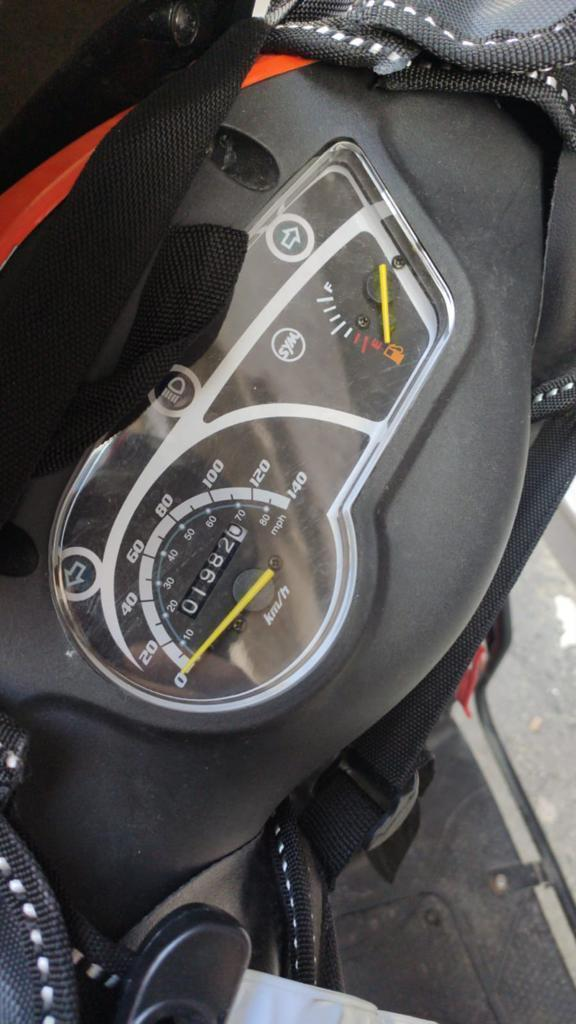0: (180, 598, 198, 614), (226, 522, 242, 536), (186, 528, 194, 535), (208, 517, 216, 522), (172, 549, 177, 556), (172, 599, 177, 606)
1: (190, 585, 207, 596)
2: (217, 537, 235, 553)
5: (183, 533, 192, 540)
6: (204, 519, 213, 527)
8: (207, 552, 223, 567)
9: (199, 568, 215, 583)
odometer: (172, 517, 252, 622)
